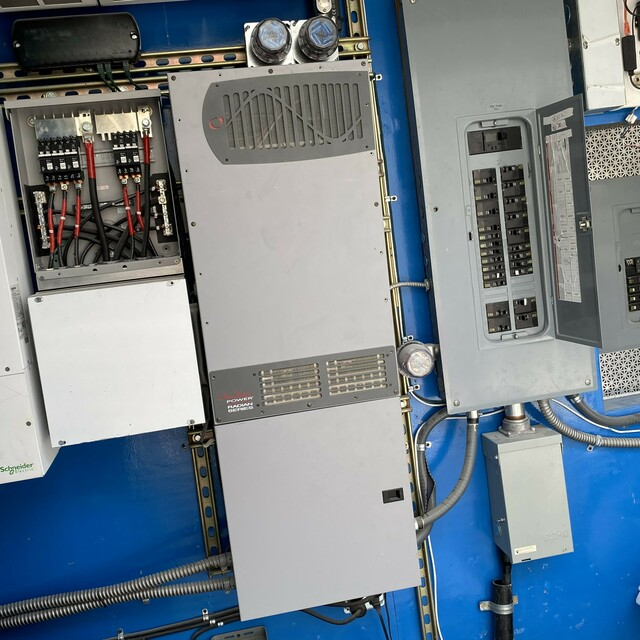inverter: (163, 54, 432, 617)
